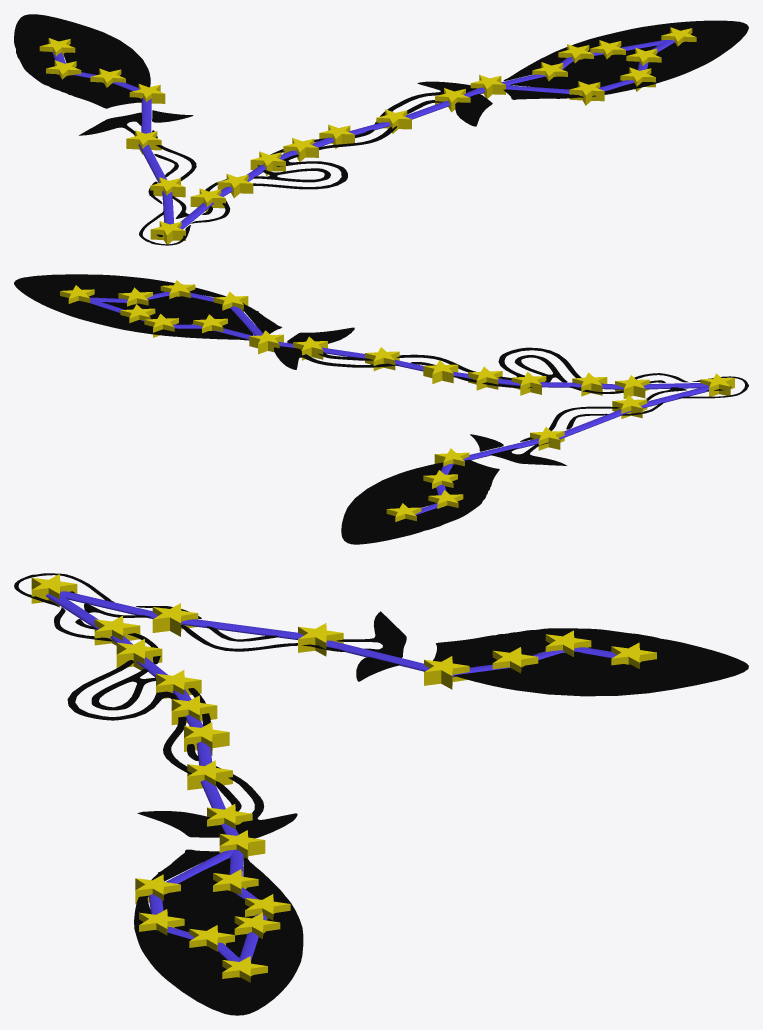
The picture shows the model from 3 angles, top to bottom: view 1: azimuth 30°, elevation 25°; view 2: azimuth 150°, elevation 25°; view 3: azimuth 270°, elevation 25°; orthographic projection. The views are drawn at different scales.
Parts seen in each view (by area): view 1: トレース, 円.011, 円.019, 円.014, 円.020, 円.021, 円.006, 円.012, 円.003, 円.022, 円.025, 円.023 (+10 smaller); view 2: トレース, 円.023, 円.012, 円.014, 円.025, 円.006, 円.003, 円.022, 円.011, 円.021, 円.024, 円.020; view 3: トレース, 円.004, 円.003, 円柱.004, 円.006, 円.025, 円.014, 円.020, 円.023, 円.022, 円.012, 円.011 (+9 smaller).
Part boxes in pixels (x1,y1,x2,y2): トレース: (14,14,748,245); 円.011: (150,221,185,244); 円.019: (569,81,604,105); 円.014: (126,130,161,154); 円.020: (217,174,253,198); 円.021: (250,151,285,175); 円.006: (190,188,225,211); 円.012: (470,74,505,98); 円.003: (150,177,185,197); 円.022: (283,138,318,161); 円.025: (376,109,411,133); 円.023: (319,124,354,148); トレース: (14,274,748,544); 円.023: (423,360,458,383); 円.012: (249,330,283,354); 円.014: (530,427,564,450); 円.025: (365,347,399,370); 円.006: (615,375,649,398); 円.003: (612,395,647,418); 円.022: (468,366,502,390); 円.011: (700,373,734,396); 円.021: (511,371,546,395); 円.024: (293,336,327,360); 円.020: (572,372,607,396); トレース: (14,573,748,1015); 円.004: (424,656,469,689); 円.003: (152,603,198,636); 円柱.004: (181,619,303,639); 円.006: (94,615,140,645); 円.025: (187,760,232,790); 円.014: (298,623,343,656); 円.020: (116,639,162,670); 円.023: (184,722,229,755); 円.022: (171,695,217,724); 円.012: (219,830,265,860); 円.011: (31,574,77,607).
Bounding box in the file's own units: 62.19 × 0.8959 × 43.68.
